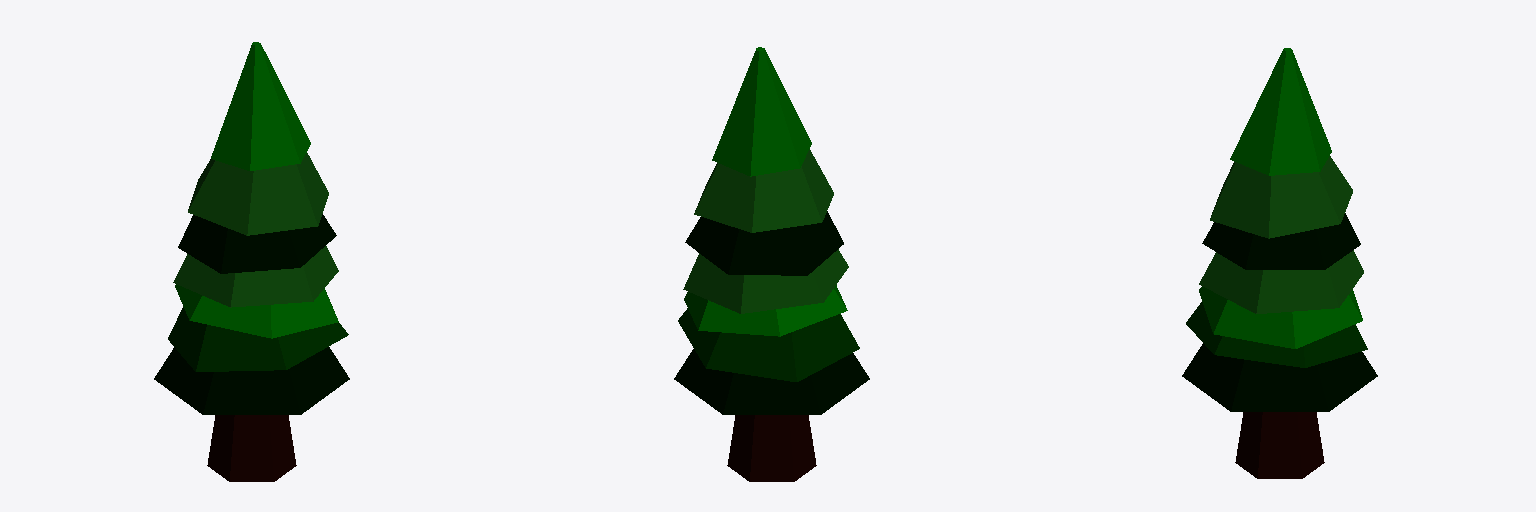
The model's file is pineTree.obj.
3 views of the same model, side by side, from view 1: azimuth 30°, elevation 25°; view 2: azimuth 150°, elevation 25°; view 3: azimuth 270°, elevation 25° (orthographic).
Size of the model in its own units: 3.03 by 7.79 by 3.32.